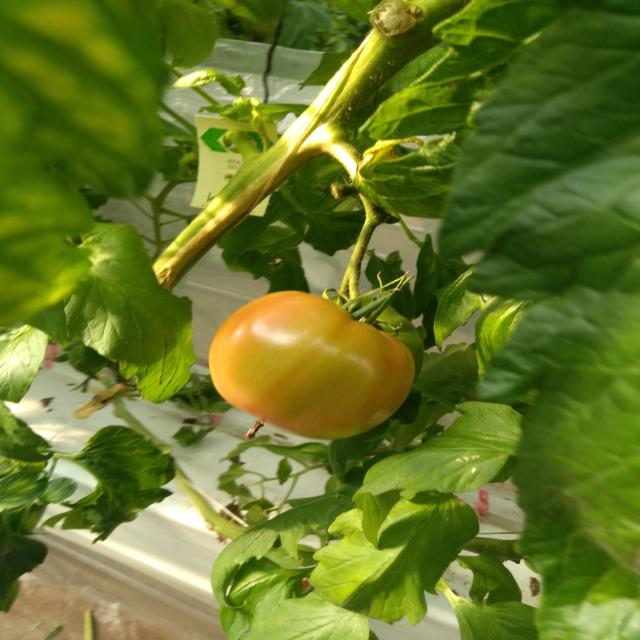sari: (226, 282, 396, 440)
